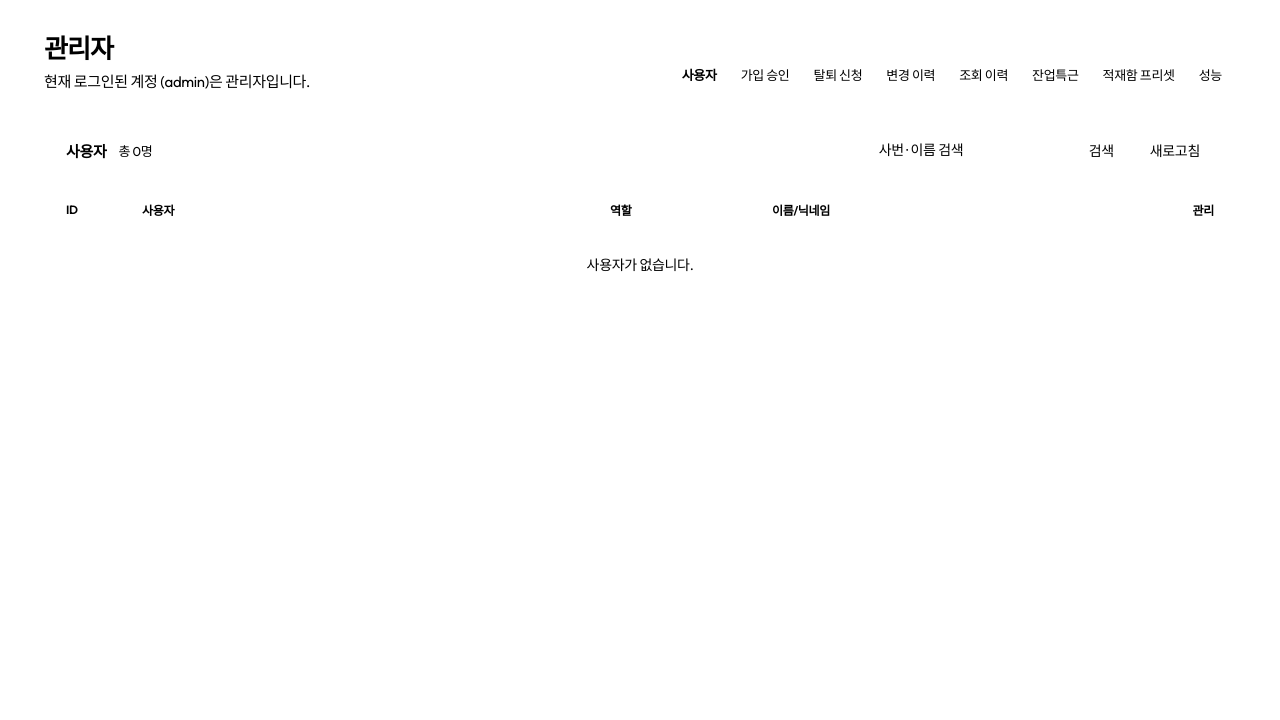
Scenario: AdminPage — 탭 전환 시 로딩 › 잔업특근을 열면 목록·집계·기본값을 함께 부른다
The image size is (1280, 720).
What coordinates should you click on to do the following:
click the button "잔업특근"
I would click on:
 (1055, 74)
Its box is [1021,60,1090,88].
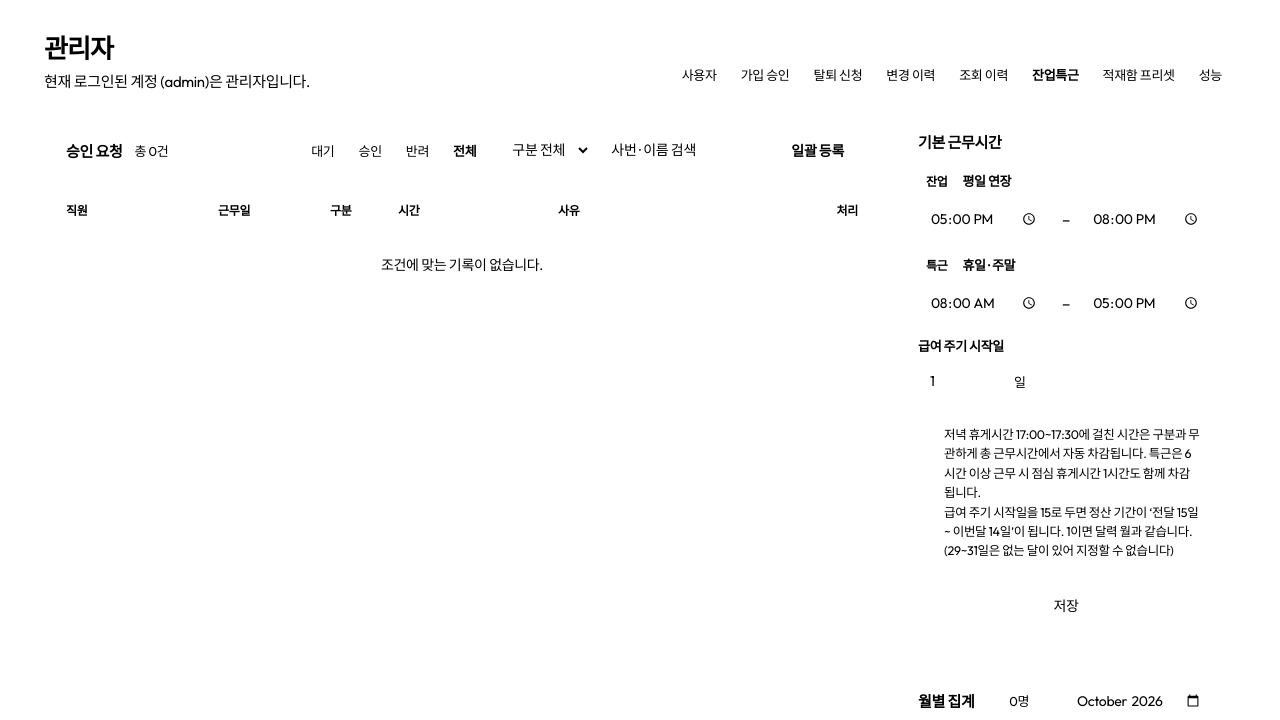
Expected: the element named "승인 요청 목록" is shown, [44,189,880,298]
